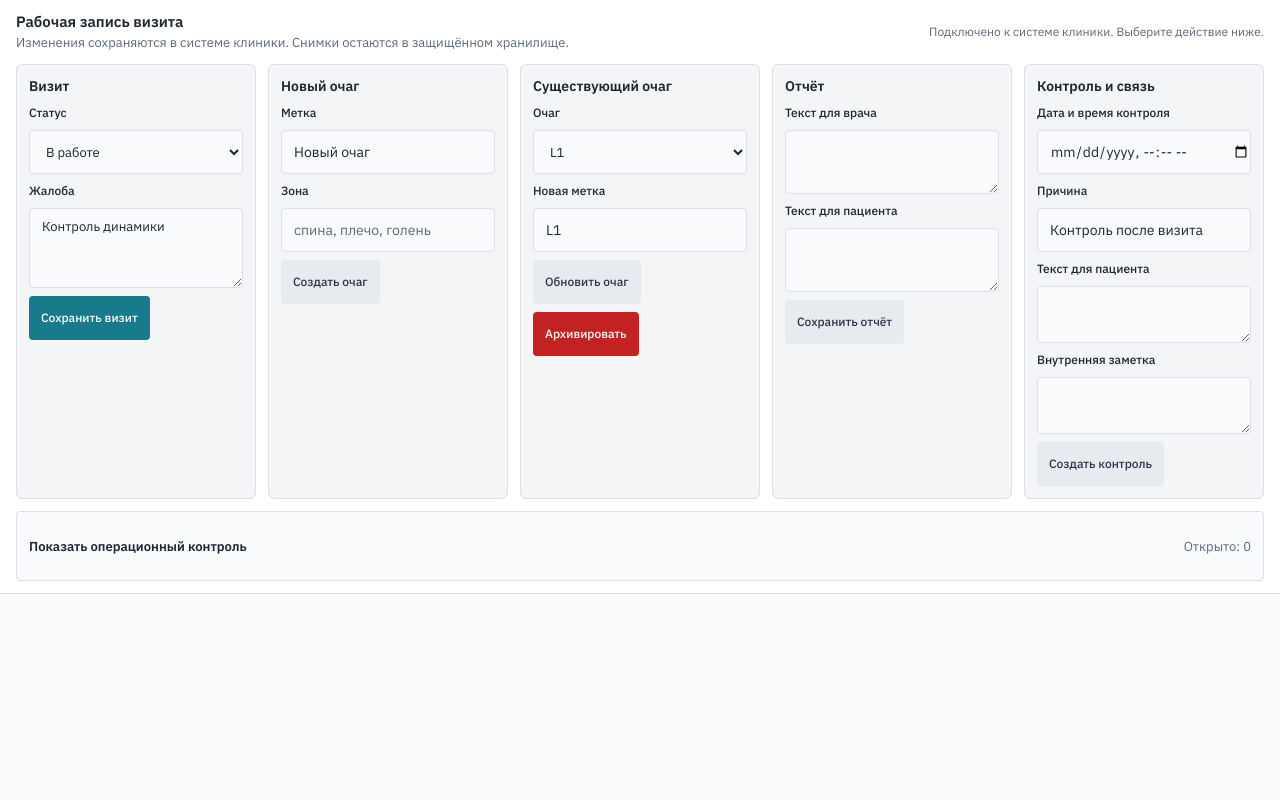
Scenario: VisitWorkspaceLiveActions › shows validation status returned by backend
Click the button "Создать очаг": {"x": 330, "y": 282} [281, 260, 380, 304]
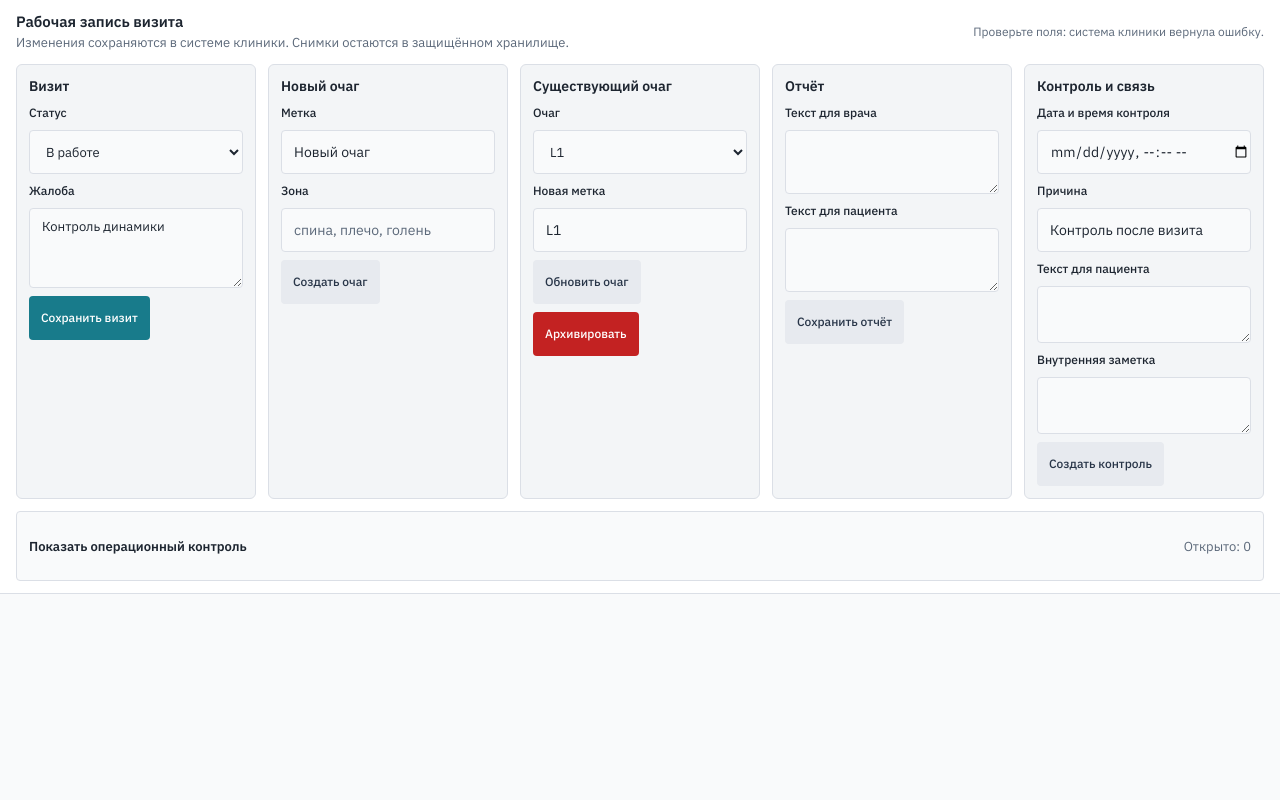
Now the text "Проверьте поля: система клиники вернула ошибку." is shown, box [973, 23, 1264, 41]
